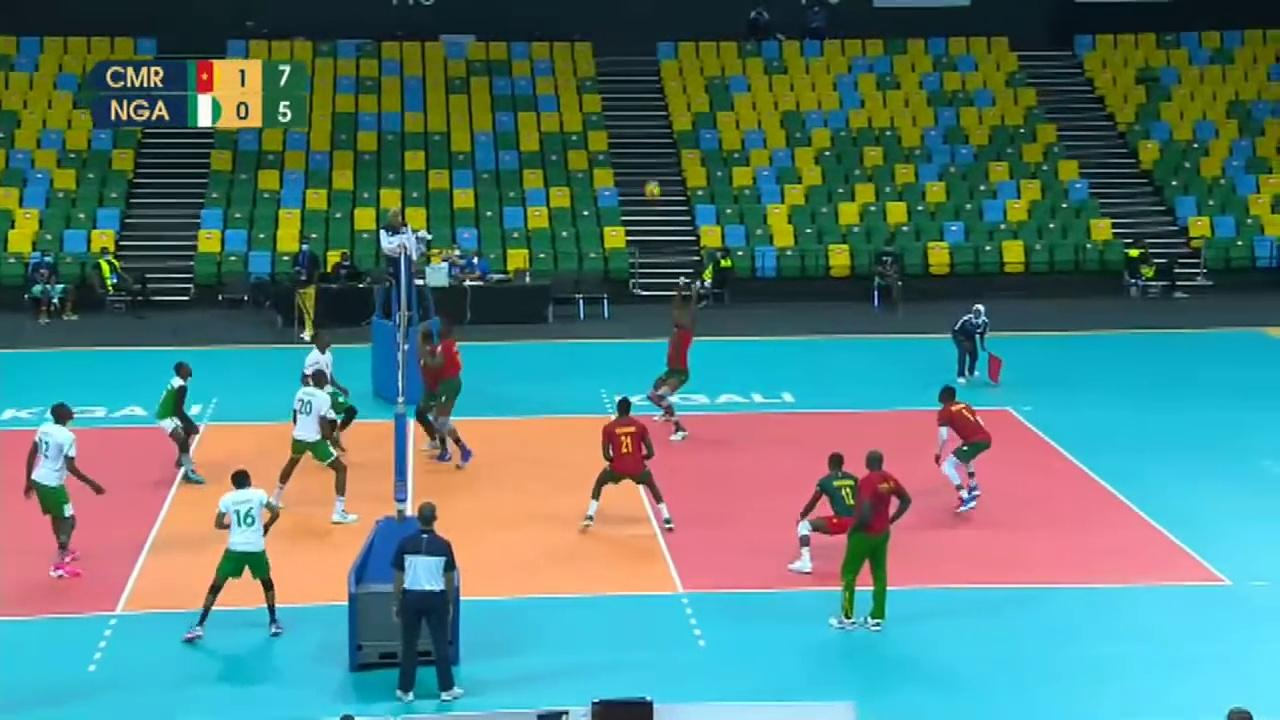player: (189, 469, 290, 637), (577, 391, 681, 535), (788, 448, 901, 573), (24, 407, 107, 576), (270, 370, 356, 522), (298, 328, 359, 464), (656, 277, 705, 439), (935, 387, 992, 512), (152, 363, 211, 482), (428, 319, 474, 468), (414, 324, 449, 456)
refree: (387, 499, 469, 706), (378, 202, 419, 309), (953, 303, 991, 386)
